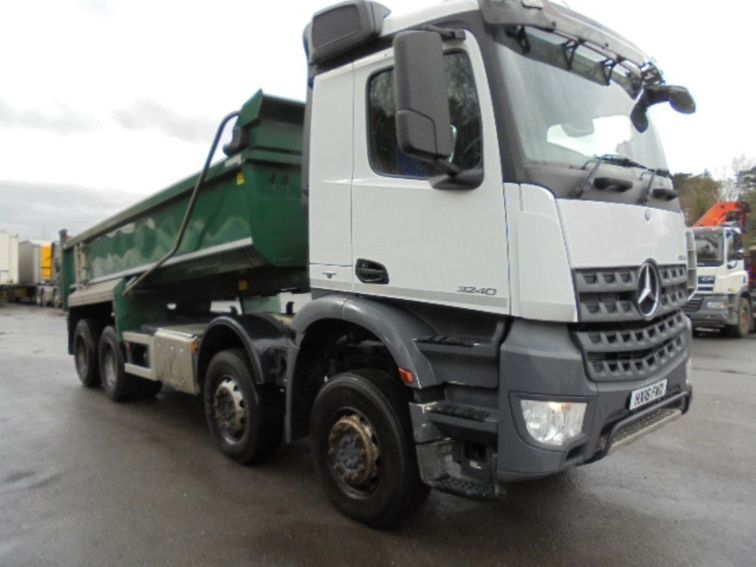Semi: (49, 1, 695, 525)
